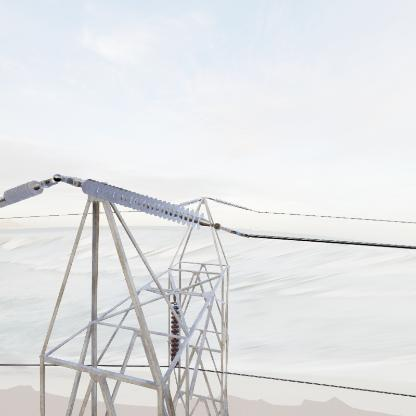insulator: (79, 175, 207, 231)
